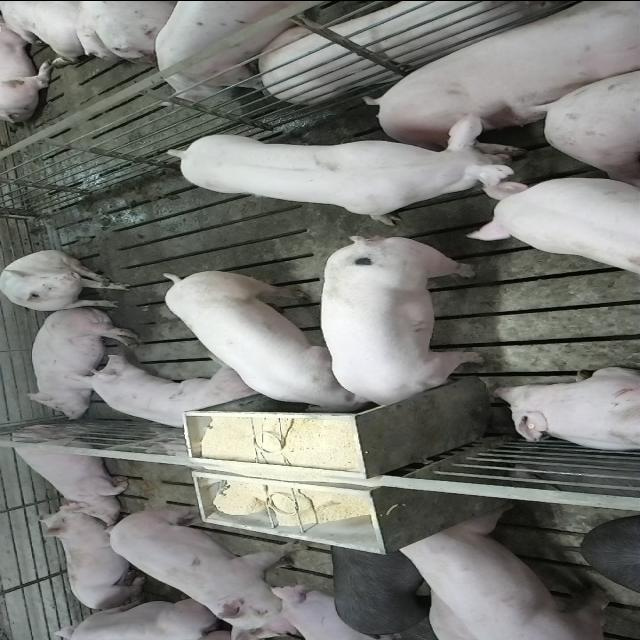Feeding: (160, 264, 371, 412), (318, 230, 484, 408)
Lateral_lying: (367, 4, 640, 159), (258, 0, 582, 102), (24, 306, 140, 418)
Sitting: (3, 423, 135, 517), (2, 249, 134, 312)
Standing: (168, 121, 534, 222), (394, 508, 622, 638), (109, 504, 319, 634), (464, 168, 640, 284), (158, 0, 346, 99), (324, 542, 438, 636)
Sternal_lying: (70, 354, 259, 432), (490, 366, 640, 454), (39, 505, 150, 610)
